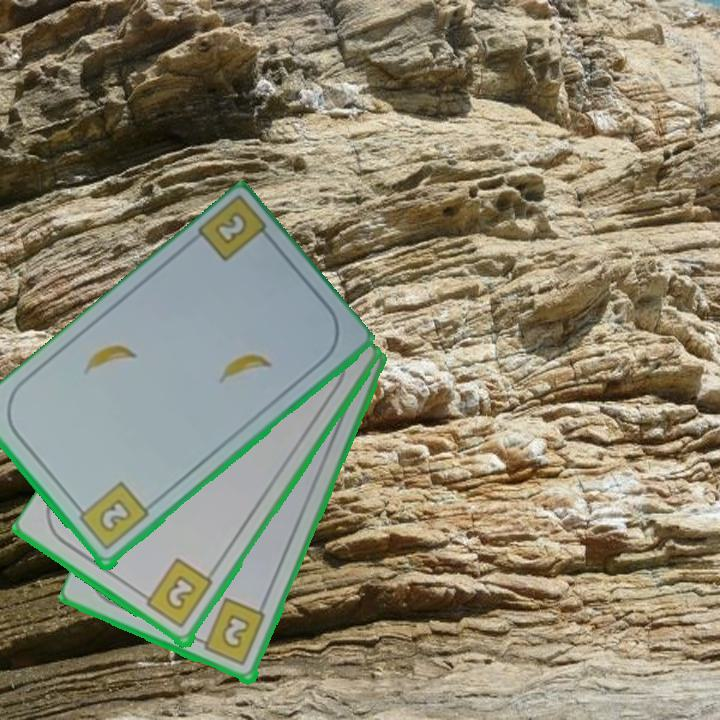2b: (136, 555, 216, 632), (72, 479, 152, 554), (193, 195, 278, 265), (193, 595, 268, 669)
